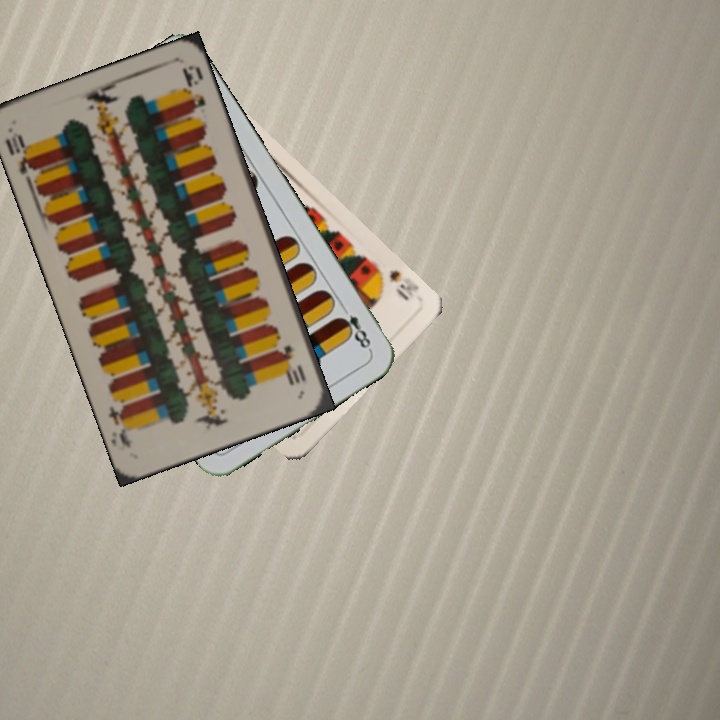E10: (2, 126, 41, 184), (277, 340, 309, 387)
E8: (334, 300, 374, 353)
S10: (371, 262, 422, 303)
